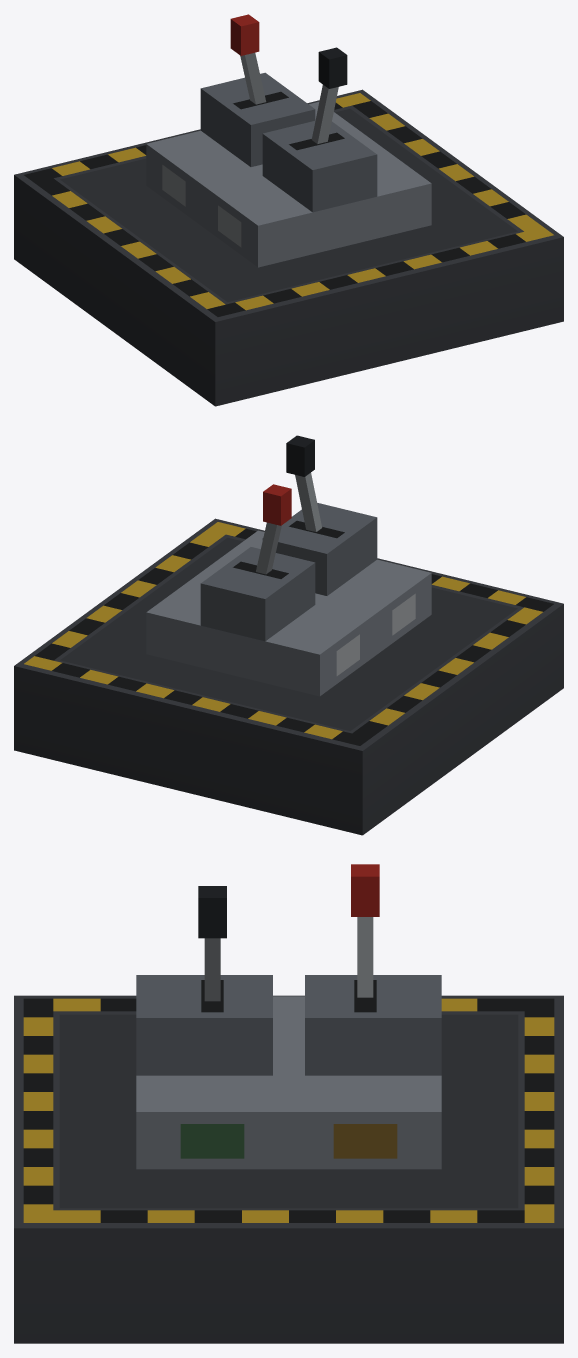
The model's file is machine.lever.grey.glb.
The picture shows the model from 3 angles, top to bottom: view 1: azimuth 30°, elevation 25°; view 2: azimuth 150°, elevation 25°; view 3: azimuth 270°, elevation 25°; orthographic projection. The views are drawn at different scales.
Visible parts, largest first — view 1: machine_lever_grey; view 2: machine_lever_grey; view 3: machine_lever_grey.
Boxes of the visible parts, <box> form: machine_lever_grey: <box>14,14,563,406</box>; machine_lever_grey: <box>14,435,563,835</box>; machine_lever_grey: <box>14,864,563,1343</box>.
Size of what is drawn, in the model's own units: 1.73 by 1.2 by 1.73.
